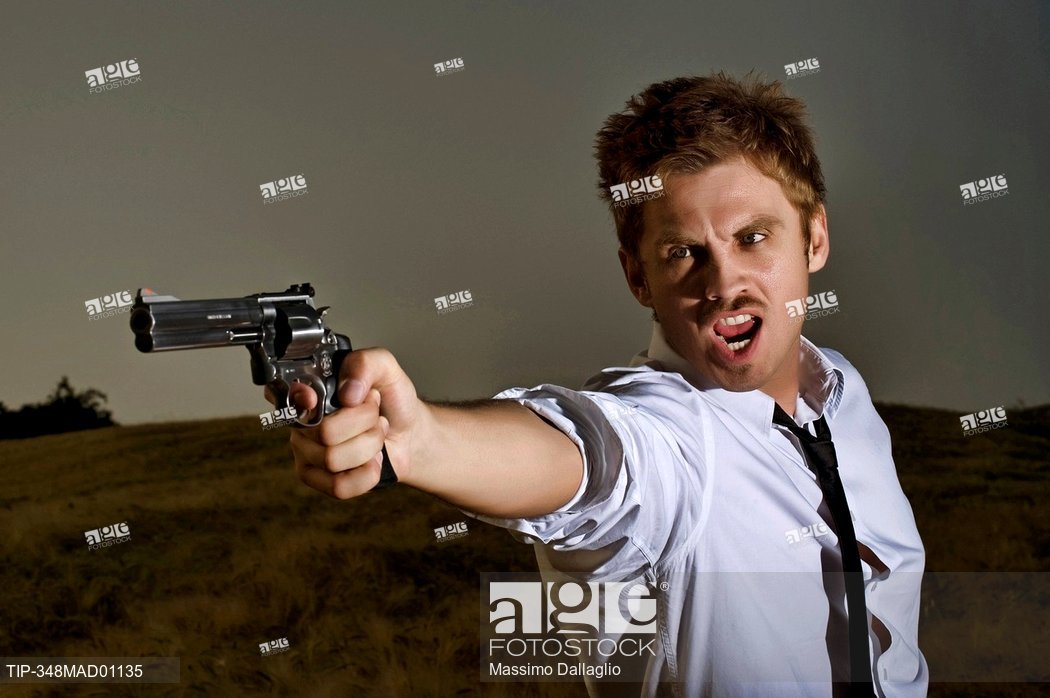Revolver: (115, 256, 405, 493)
